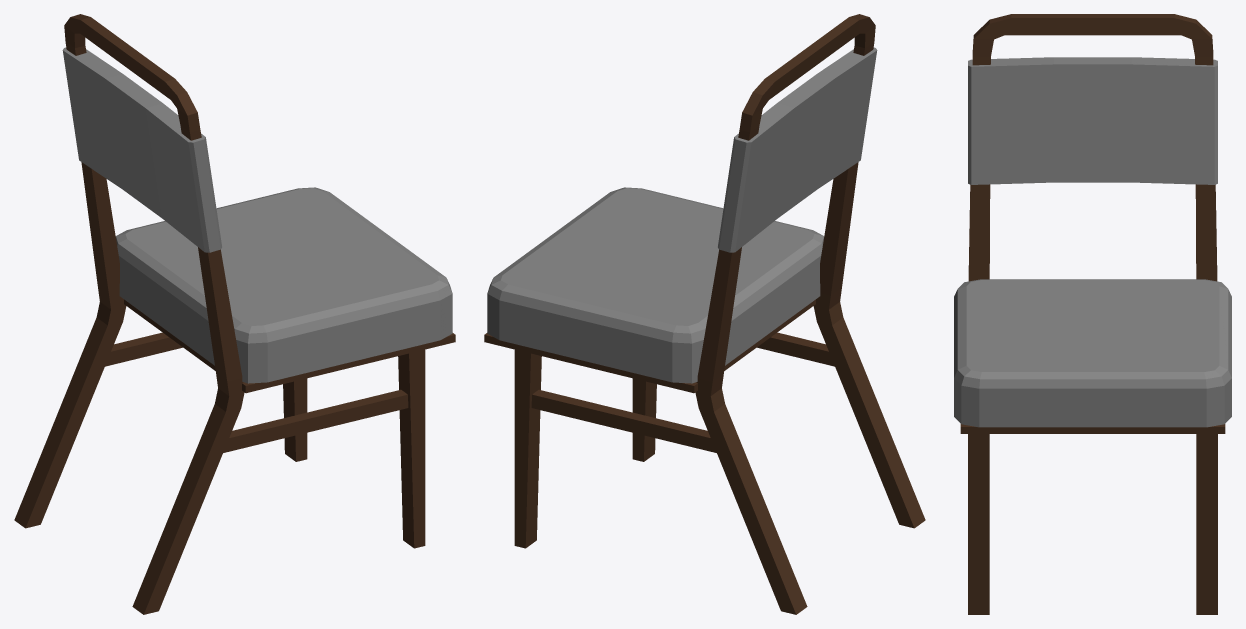
File: SM_Chair_04.glb
3 renders of one model, left to right at view 1: azimuth 30°, elevation 25°; view 2: azimuth 150°, elevation 25°; view 3: azimuth 270°, elevation 25°, orthographic. The views are drawn at different scales.
Parts seen in each view (by area): view 1: SM_Chair_04; view 2: SM_Chair_04; view 3: SM_Chair_04.
Boxes of the visible parts, bbox=[...] form: SM_Chair_04: bbox=[14, 14, 455, 614]; SM_Chair_04: bbox=[484, 14, 925, 614]; SM_Chair_04: bbox=[954, 14, 1231, 614].
Size of the model in its own units: 0.7288 by 1.13 by 0.5808.
Materials: 2 (1 with a texture image).
